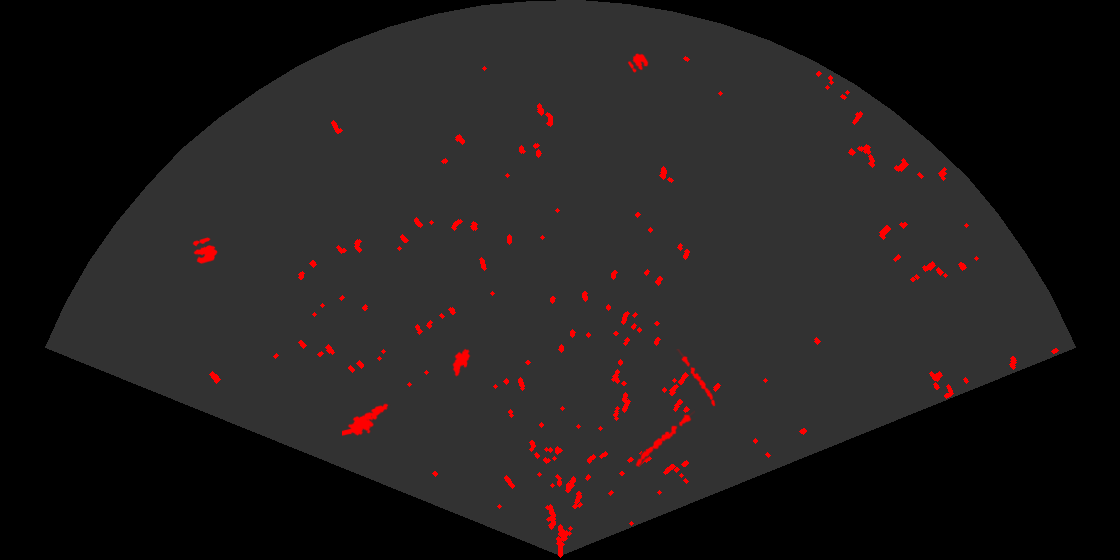AUV: (450, 347, 472, 378)
ball: (191, 236, 219, 265), (626, 52, 650, 74)
chain: (634, 409, 695, 468), (676, 349, 717, 408)
frogman: (342, 402, 391, 437)
